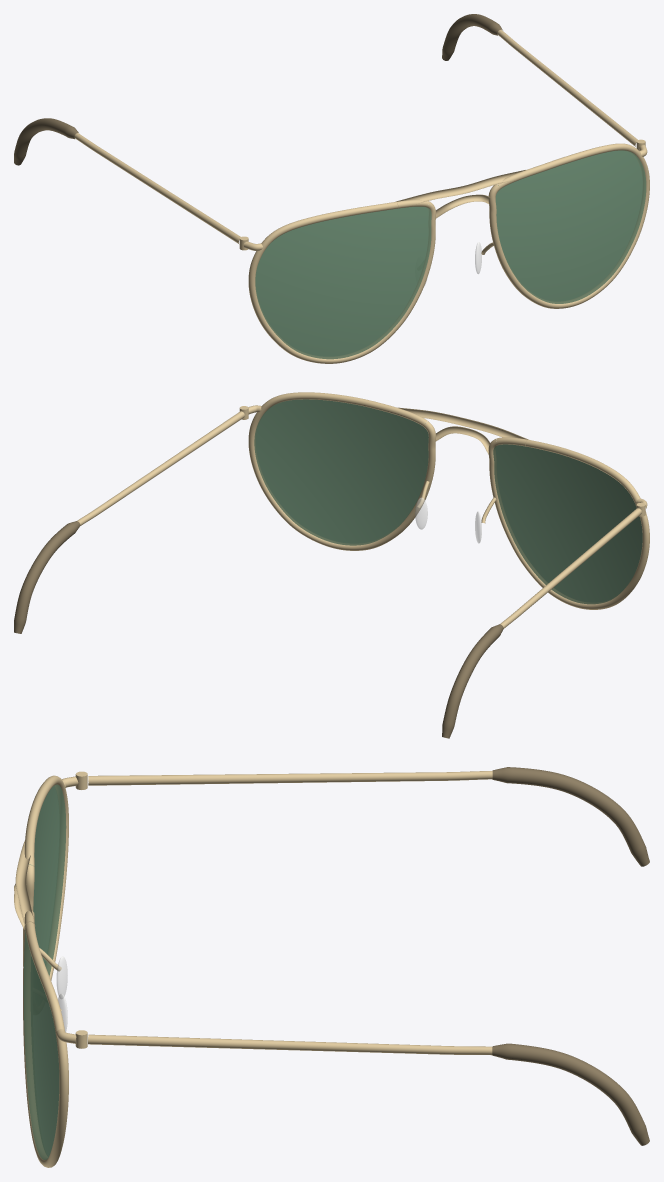
The model's file is OasisNEW.glb.
The picture shows the model from 3 angles, top to bottom: view 1: azimuth 30°, elevation 25°; view 2: azimuth 150°, elevation 25°; view 3: azimuth 270°, elevation 25°; orthographic projection. The views are drawn at different scales.
Parts seen in each view (by area): view 1: Lens_L, Lens_R, Frame_Rims_Bridge, Temple_L, Temple_R, EarTip_L, EarTip_R; view 2: Lens_R, Lens_L, Frame_Rims_Bridge, EarTip_R, EarTip_L, Temple_R, Temple_L; view 3: Frame_Rims_Bridge, Lens_R, Lens_L, Temple_L, Temple_R, EarTip_R, EarTip_L.
Part boxes in pixels (x1,y1,x2,y2): Lens_L: (255, 206, 431, 359); Lens_R: (495, 150, 646, 303); Frame_Rims_Bridge: (239, 139, 649, 363); Temple_L: (74, 133, 240, 244); Temple_R: (497, 30, 637, 146); EarTip_L: (14, 118, 78, 165); EarTip_R: (442, 14, 502, 60); Lens_R: (254, 399, 428, 545); Lens_L: (493, 444, 642, 604); Frame_Rims_Bridge: (239, 392, 649, 609); EarTip_R: (14, 521, 80, 633); EarTip_L: (442, 624, 503, 738); Temple_R: (77, 411, 244, 525); Temple_L: (500, 508, 641, 628); Frame_Rims_Bridge: (14, 771, 87, 1167); Lens_R: (23, 930, 59, 1159); Lens_L: (29, 784, 66, 976); Temple_L: (88, 771, 492, 785); Temple_R: (88, 1034, 492, 1055); EarTip_R: (492, 1043, 649, 1145); EarTip_L: (492, 767, 649, 866).
Bounding box in the file's own units: 0.1582 × 0.053 × 0.1484.
